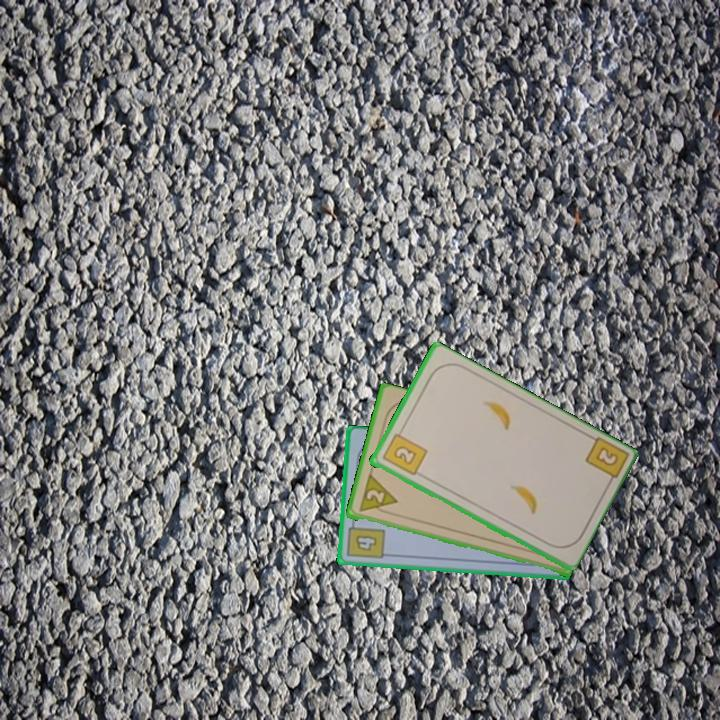2b: (378, 425, 430, 479), (581, 434, 629, 490)
2p: (355, 472, 400, 517)
4b: (344, 516, 388, 562)
